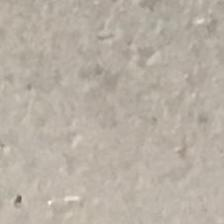Non_Crack: (3, 13, 224, 223)
